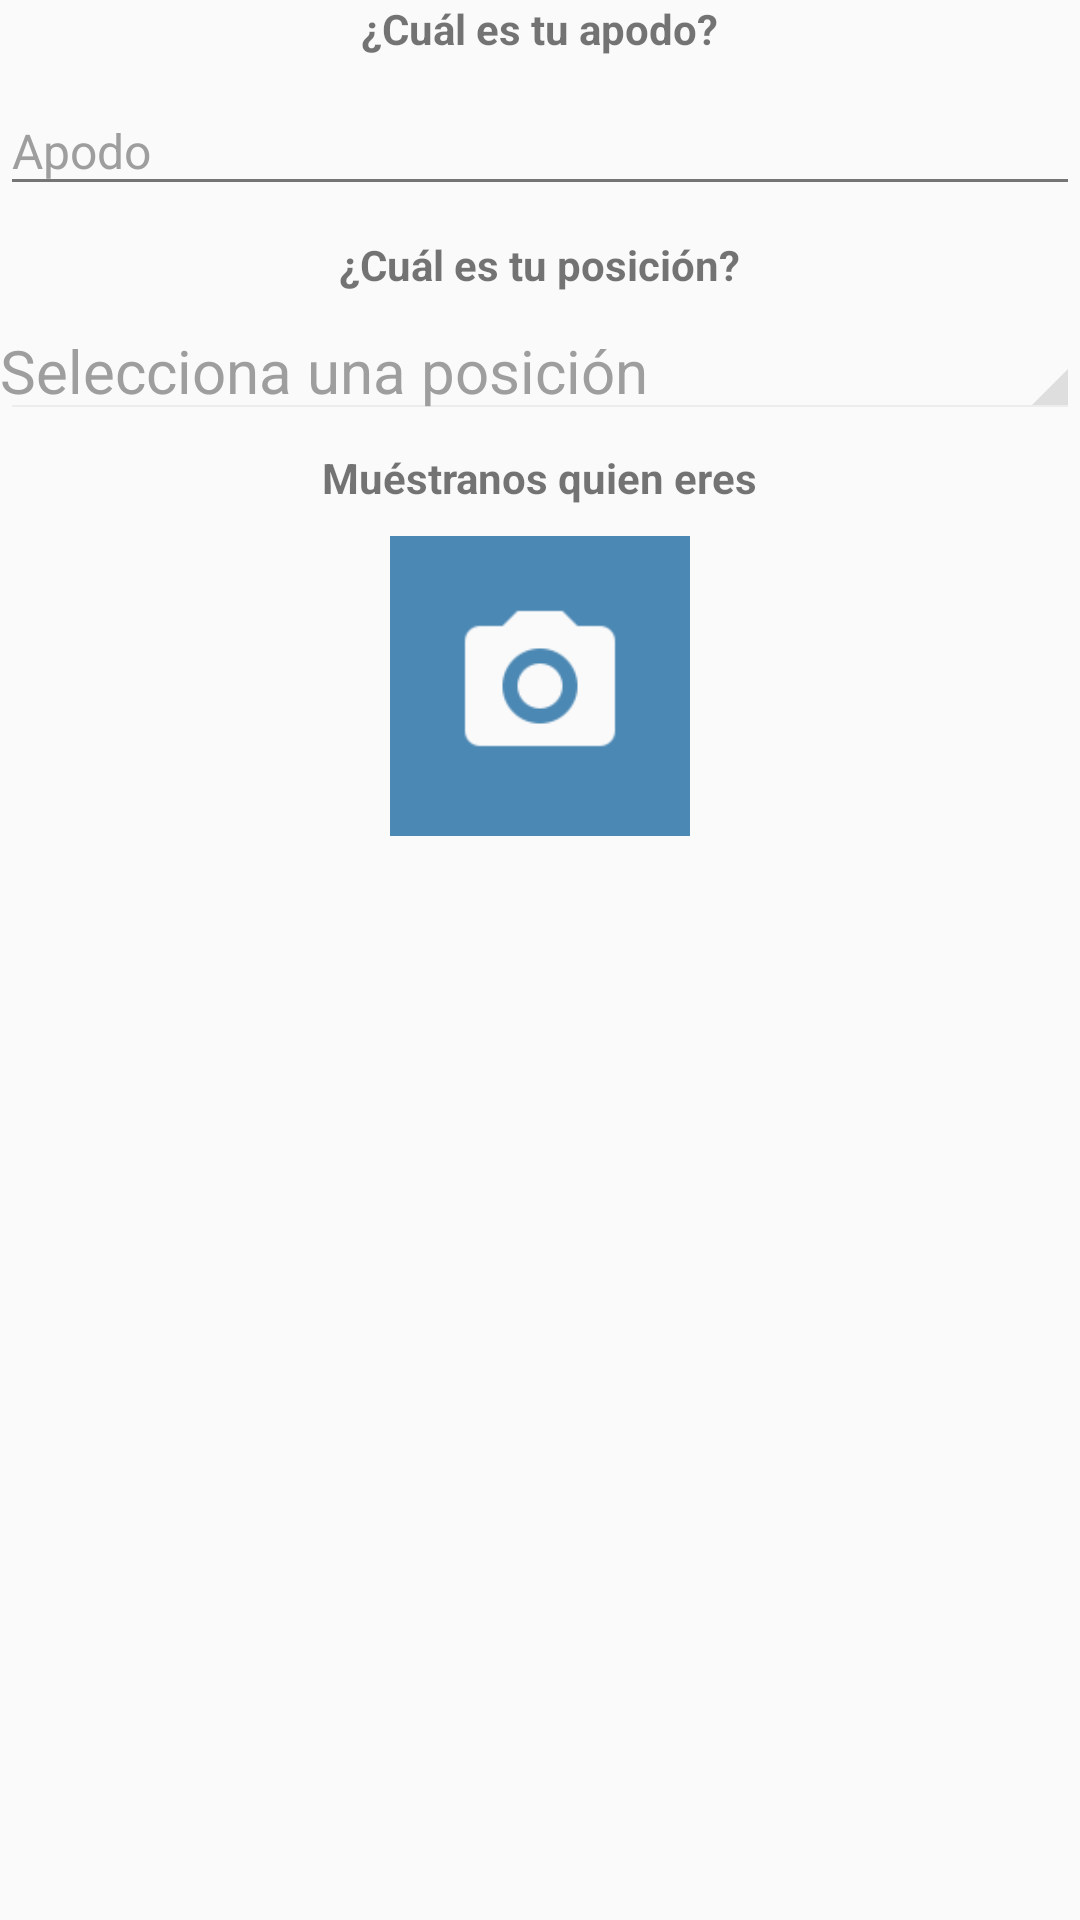

Icon click points for this 1080x1920 phone screenshot, format [x,y]:
camera: [540,686]
